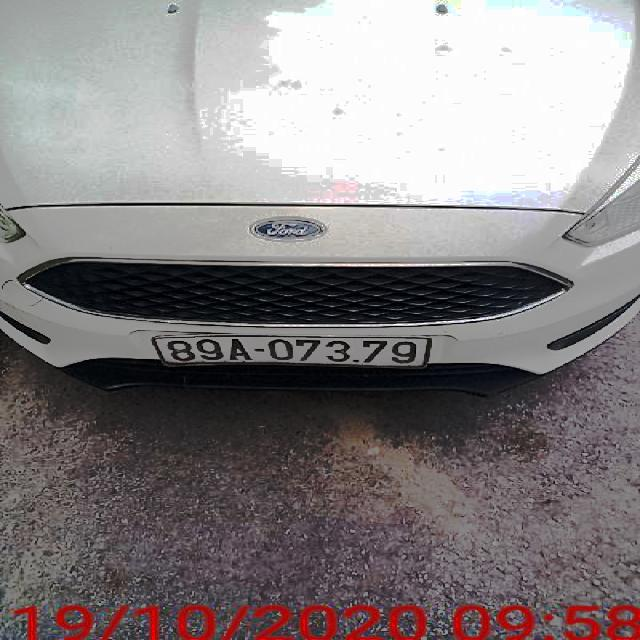license_plate: (152, 337, 435, 367)
